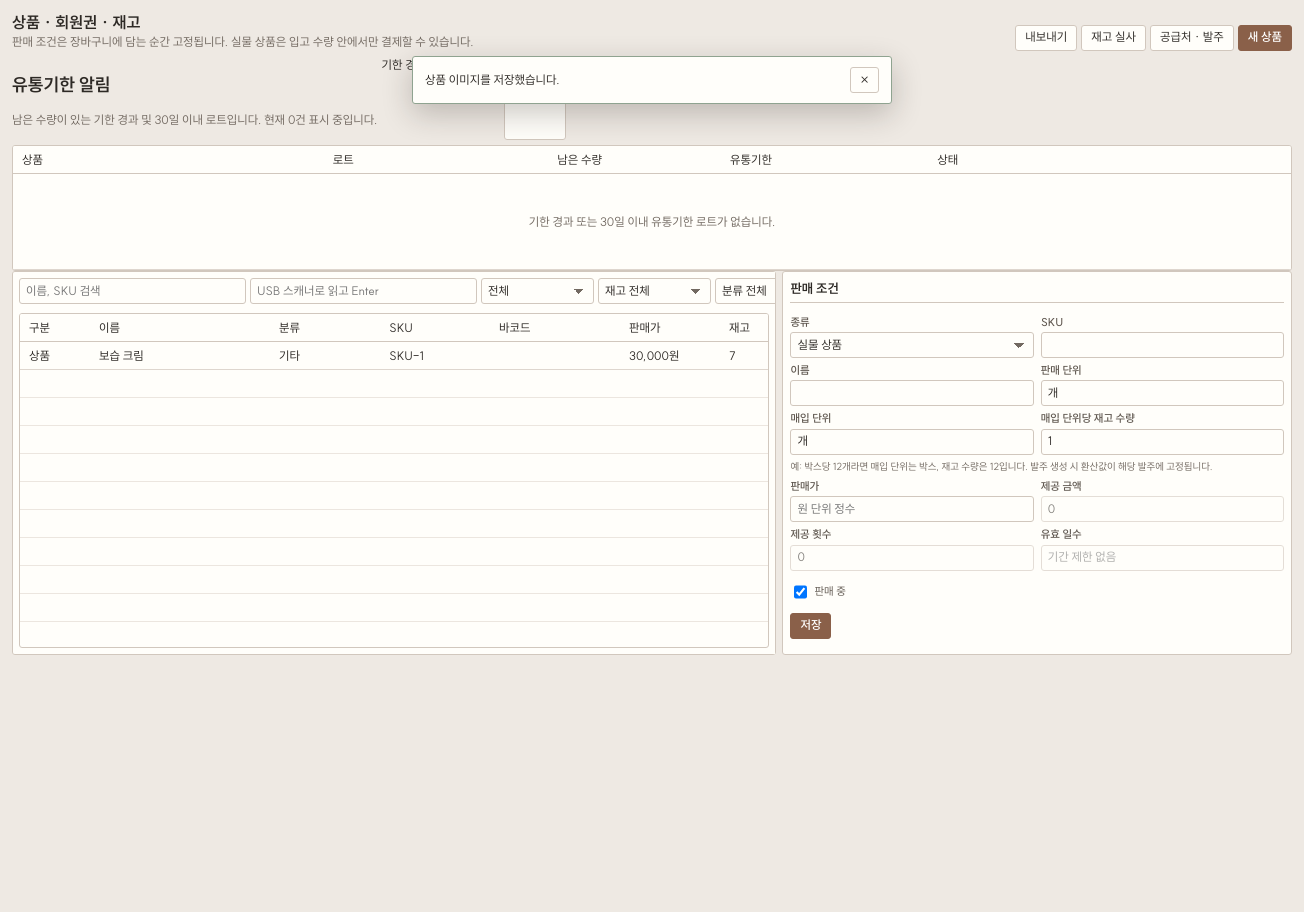
InventoryPage › 잘못된 입력은 서버로 보내지 않고 안내한다
Expected: the text "보습 크림" is shown, [90,342,270,370]
Type "1.5" into the field labelled "판매가" at (912, 509), box [790,496,1034,522]
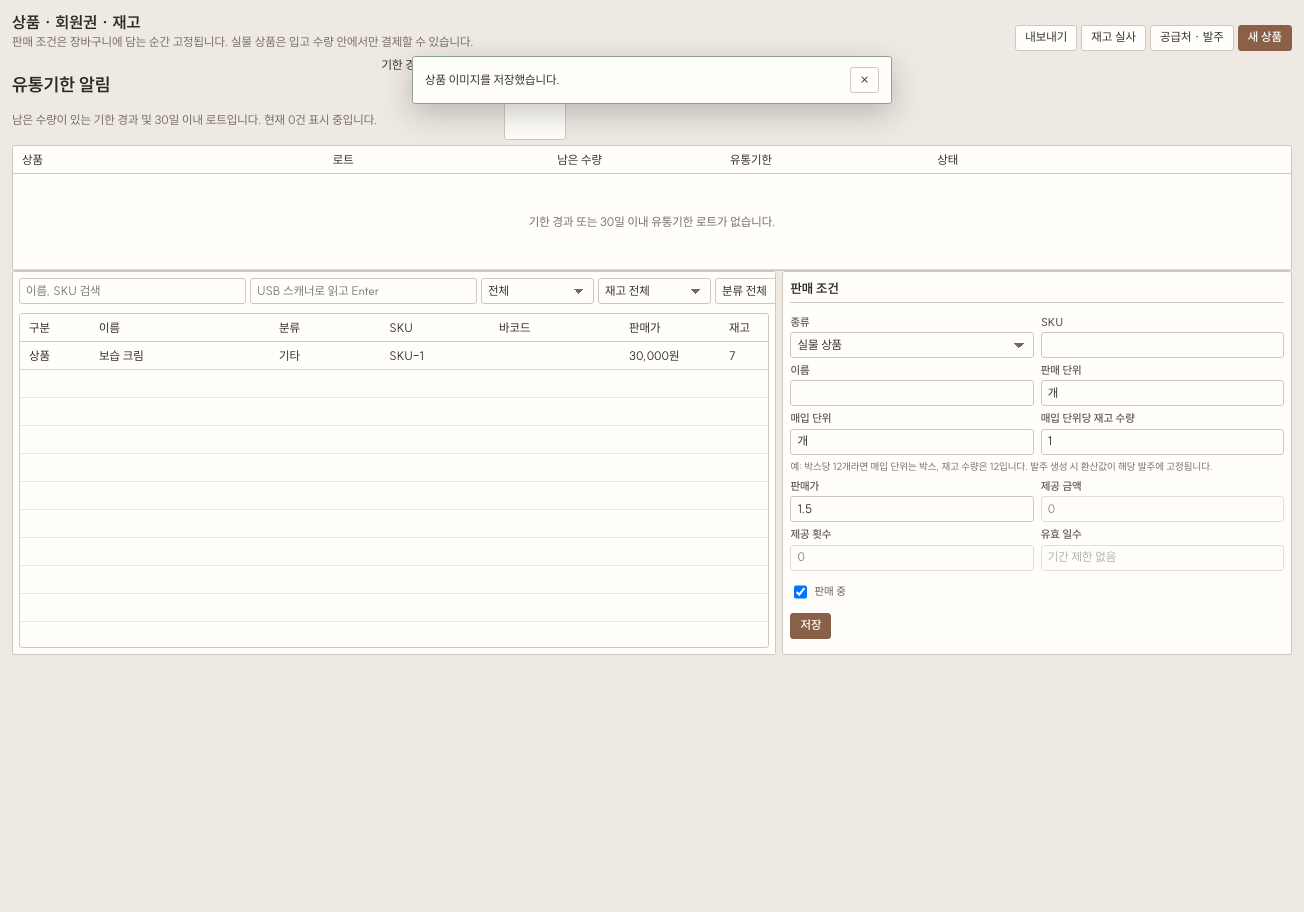
Click the button "저장" at (811, 626), box [790,613,831,639]
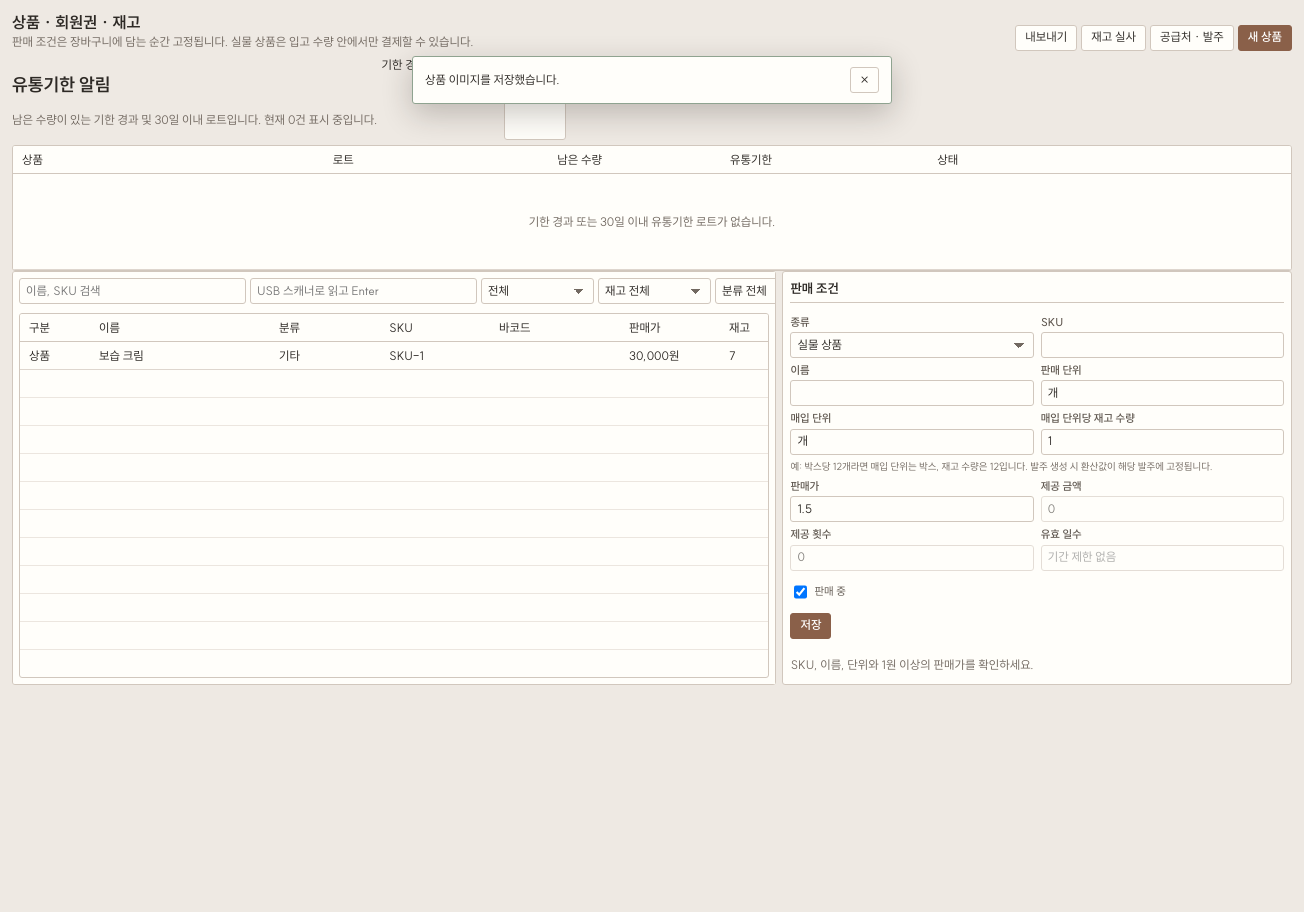
Now the text "SKU, 이름, 단위와 1원 이상의 판매가를 확인하세요." is shown, box [790,657,1034,672]
